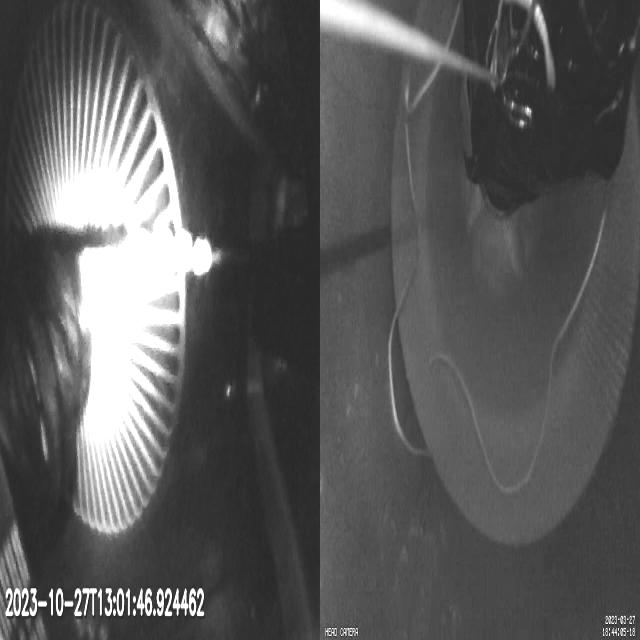white-dots: (159, 223, 213, 281)
